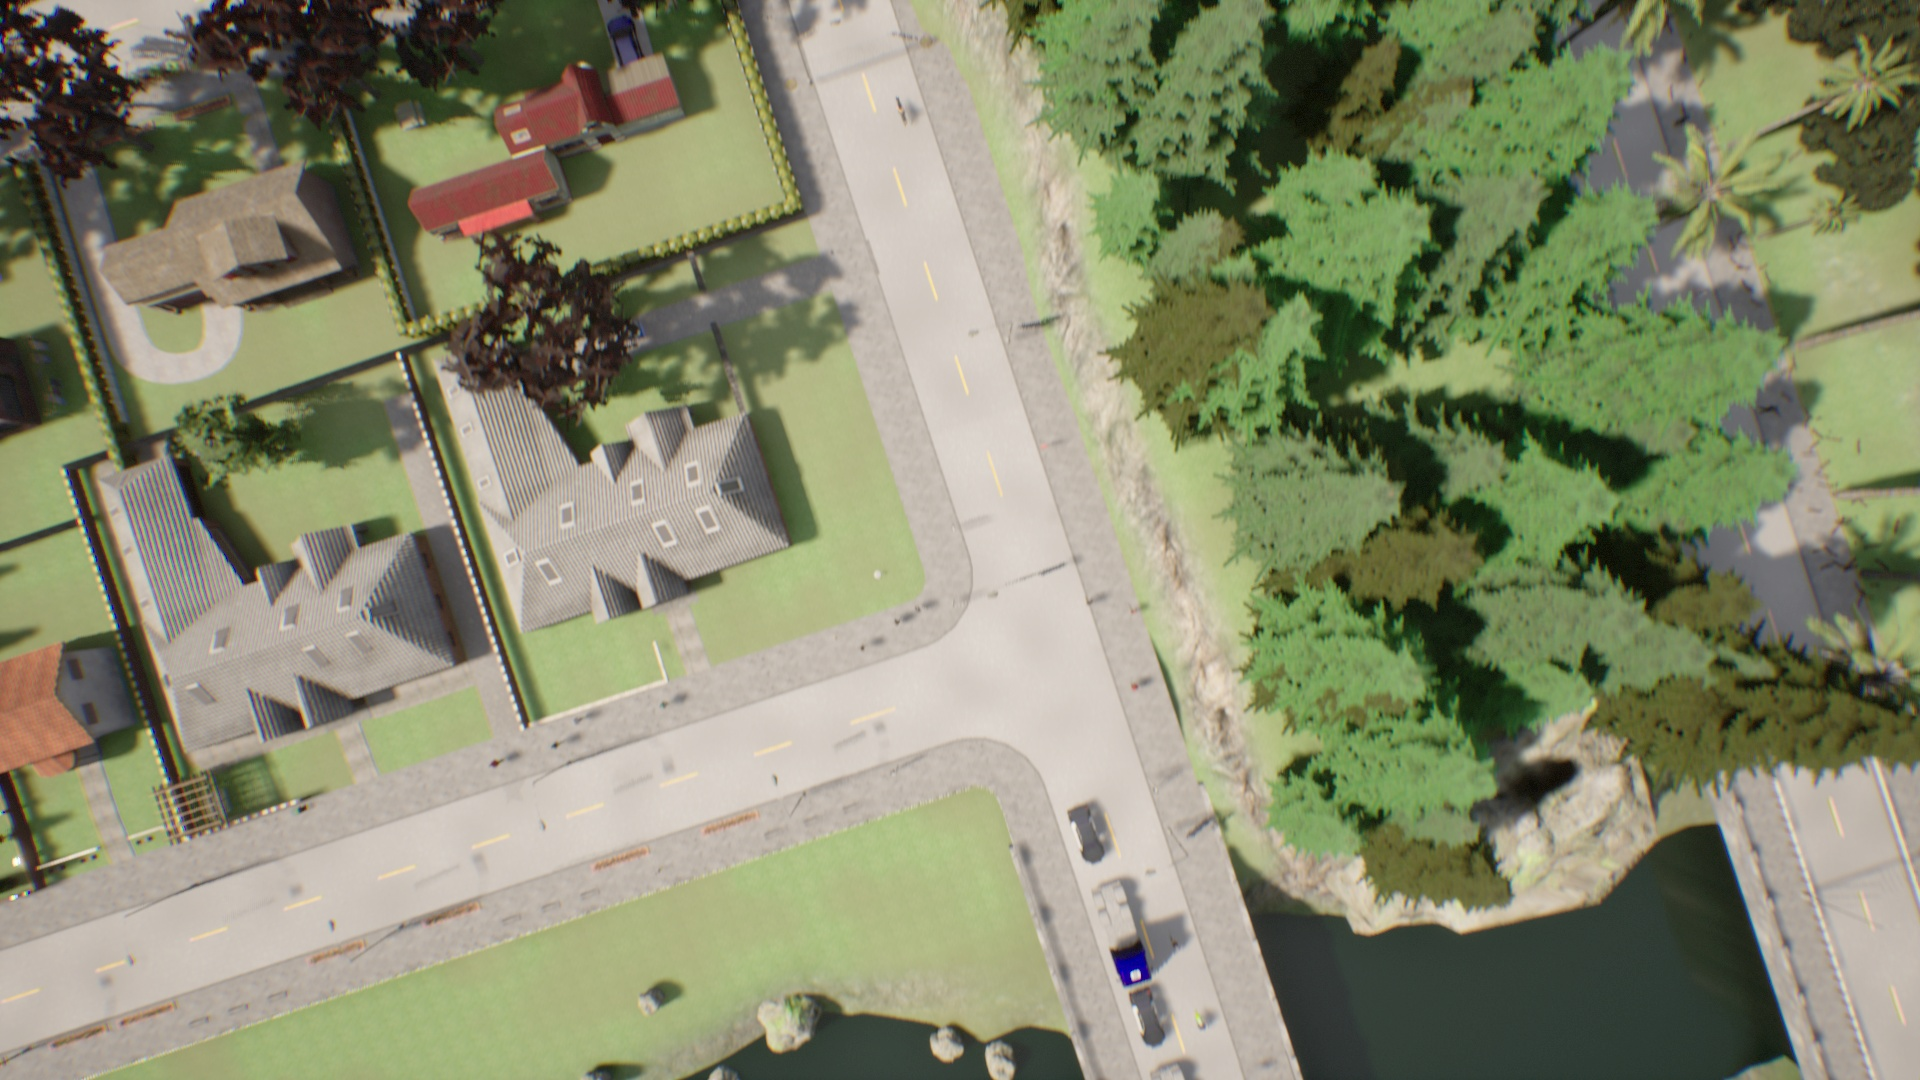Bicycle: (1196, 1007, 1204, 1035), (898, 100, 907, 124)
Car: (1064, 800, 1112, 869), (1129, 985, 1171, 1047), (605, 21, 650, 63)
Truck: (1091, 880, 1153, 977), (1145, 1063, 1191, 1080)
